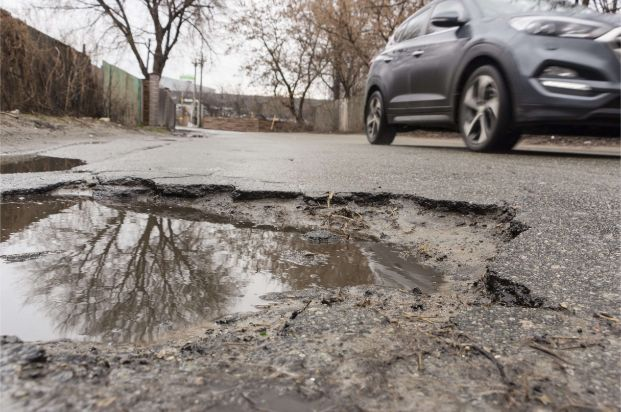pothole: (1, 184, 539, 360)
